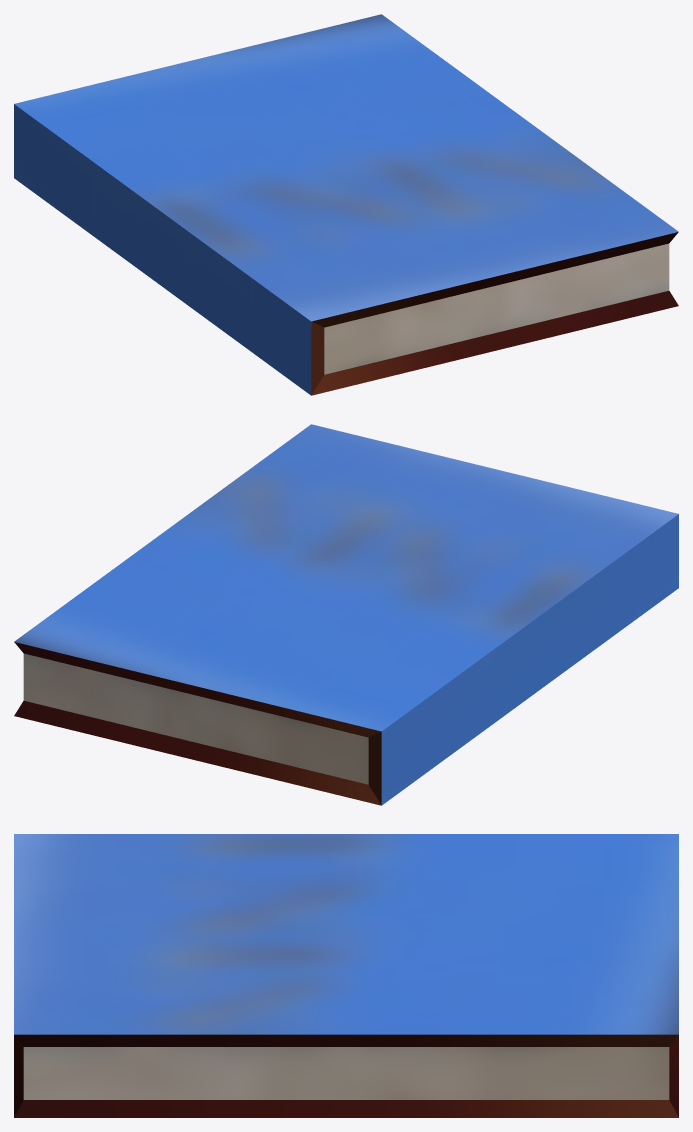
The model's file is book.obj.
3 views of the same model, one above another, from view 1: azimuth 30°, elevation 25°; view 2: azimuth 150°, elevation 25°; view 3: azimuth 270°, elevation 25° (orthographic). The views are drawn at different scales.
Parts seen in each view (by area): view 1: Cube.025; view 2: Cube.025; view 3: Cube.025.
Part boxes in pixels (x1=…): Cube.025: x1=14, y1=14, x2=678, y2=395; Cube.025: x1=14, y1=424, x2=678, y2=805; Cube.025: x1=14, y1=834, x2=678, y2=1117.
Size of the model in its own units: 0.3478 by 0.0671 by 0.4871.
